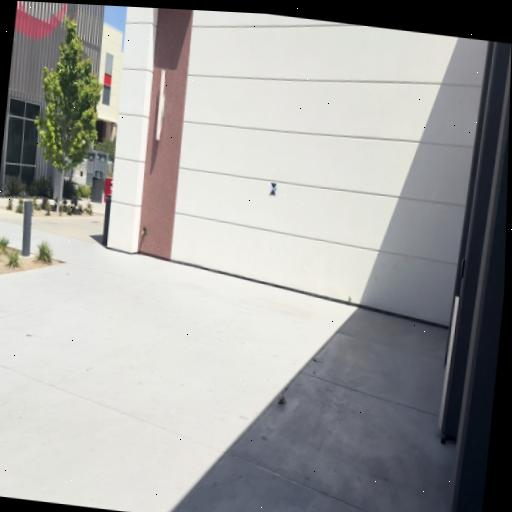target0: (270, 182, 277, 197)
